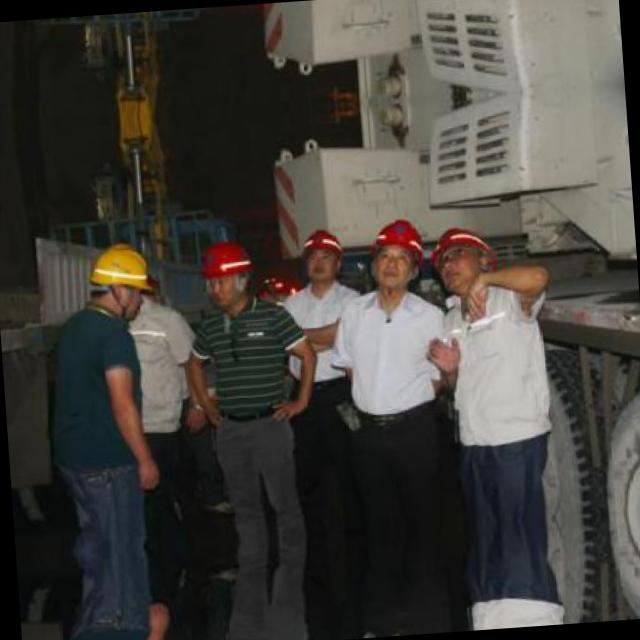helmet: (84, 238, 158, 318), (195, 232, 260, 312), (367, 214, 428, 292), (430, 222, 494, 294), (298, 223, 346, 283)
